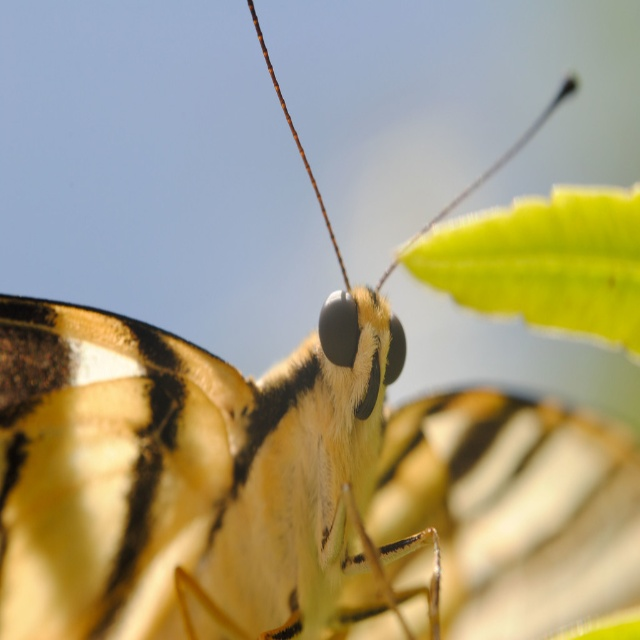Butterfly: (0, 0, 589, 640)
